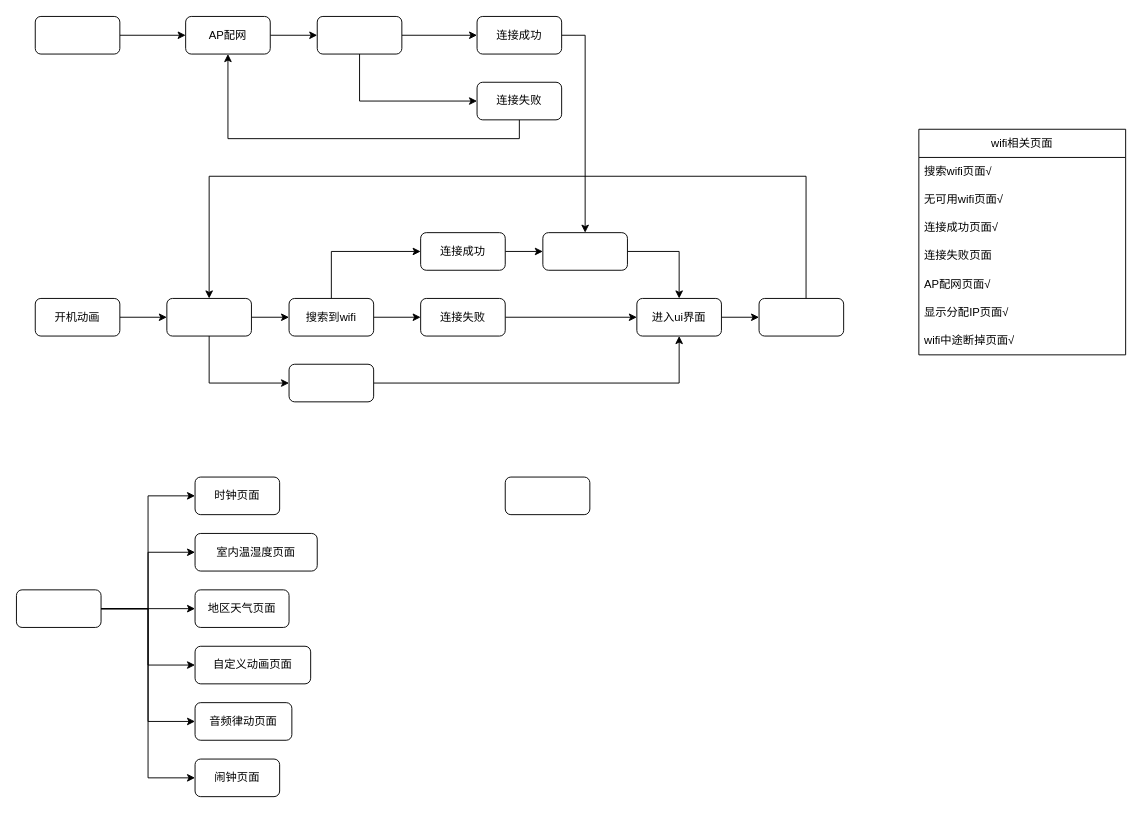
This 1142x813 diagram has some shape labels left out. Each missing label, with the box of its shape:
UI: (16, 589, 101, 627)
wifi中途断掉: (758, 298, 844, 336)
主动开启配网: (34, 16, 120, 54)
开始连接: (316, 16, 402, 54)
搜索wifi: (166, 298, 251, 336)
无可用wifi: (288, 363, 374, 402)
显示分配ip: (542, 232, 627, 270)
